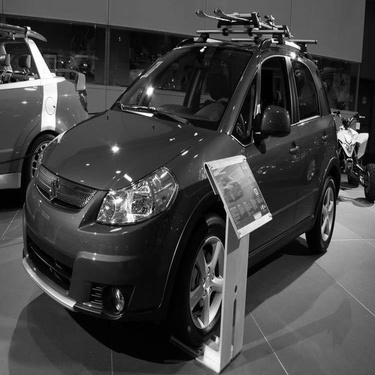car: (19, 19, 358, 336), (1, 14, 96, 192)
